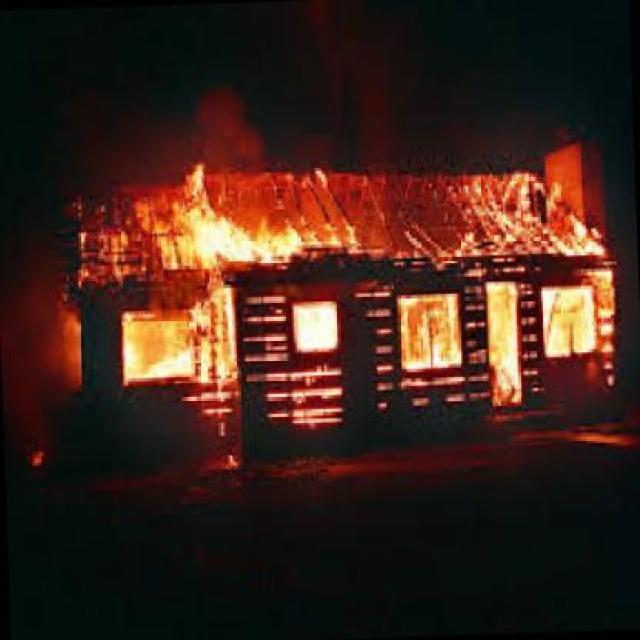Fire: (114, 296, 250, 392), (454, 174, 616, 252), (158, 185, 311, 258), (396, 287, 468, 394), (480, 280, 528, 403), (542, 283, 608, 366), (284, 297, 351, 366)
